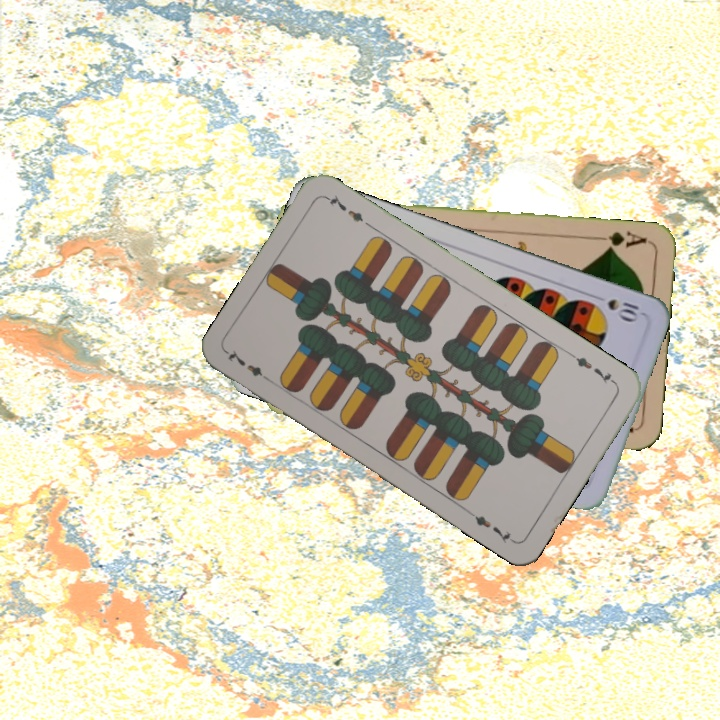E7: (223, 346, 275, 385), (567, 349, 619, 387)
GA: (592, 227, 651, 253)
S10: (603, 294, 642, 324)
